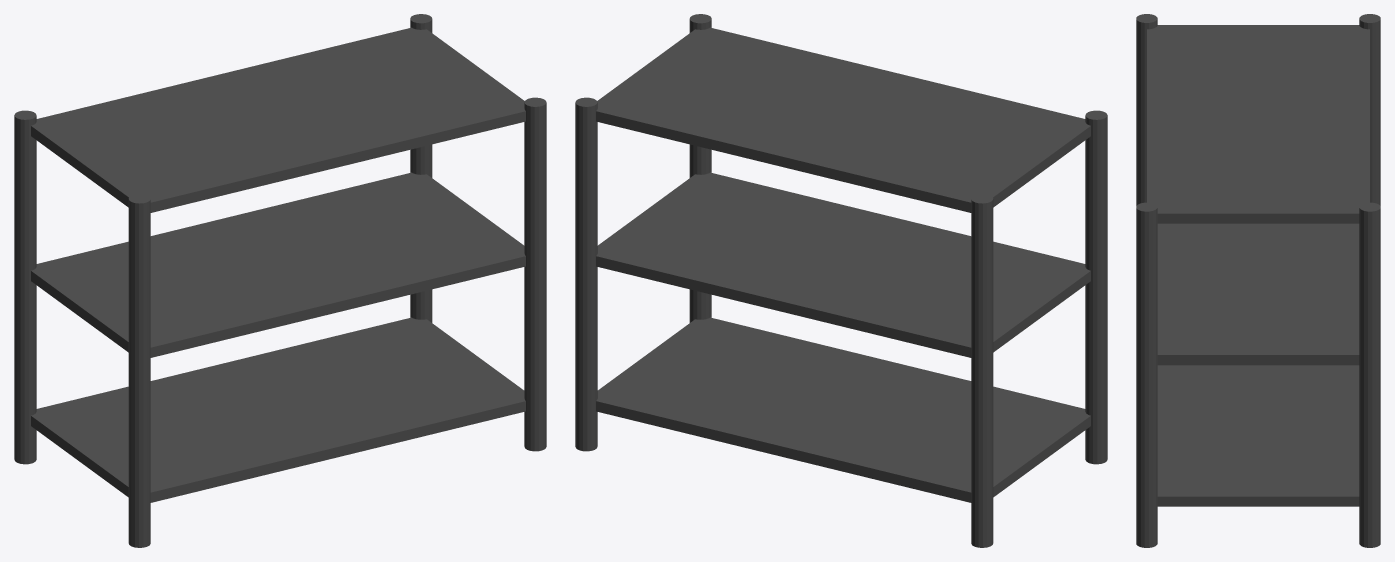
File: Props_Bookshelf_03.fbx
3 views of the same model, side by side, from view 1: azimuth 30°, elevation 25°; view 2: azimuth 150°, elevation 25°; view 3: azimuth 270°, elevation 25° (orthographic). The views are drawn at different scales.
Visible parts, largest first — view 1: Props_Bookshelf_03; view 2: Props_Bookshelf_03; view 3: Props_Bookshelf_03.
Part boxes in pixels (<box>): Props_Bookshelf_03: <box>14,14,546,547</box>; Props_Bookshelf_03: <box>575,14,1107,547</box>; Props_Bookshelf_03: <box>1136,14,1380,547</box>.
Bounding box in the file's own units: 210 × 166 × 110.
